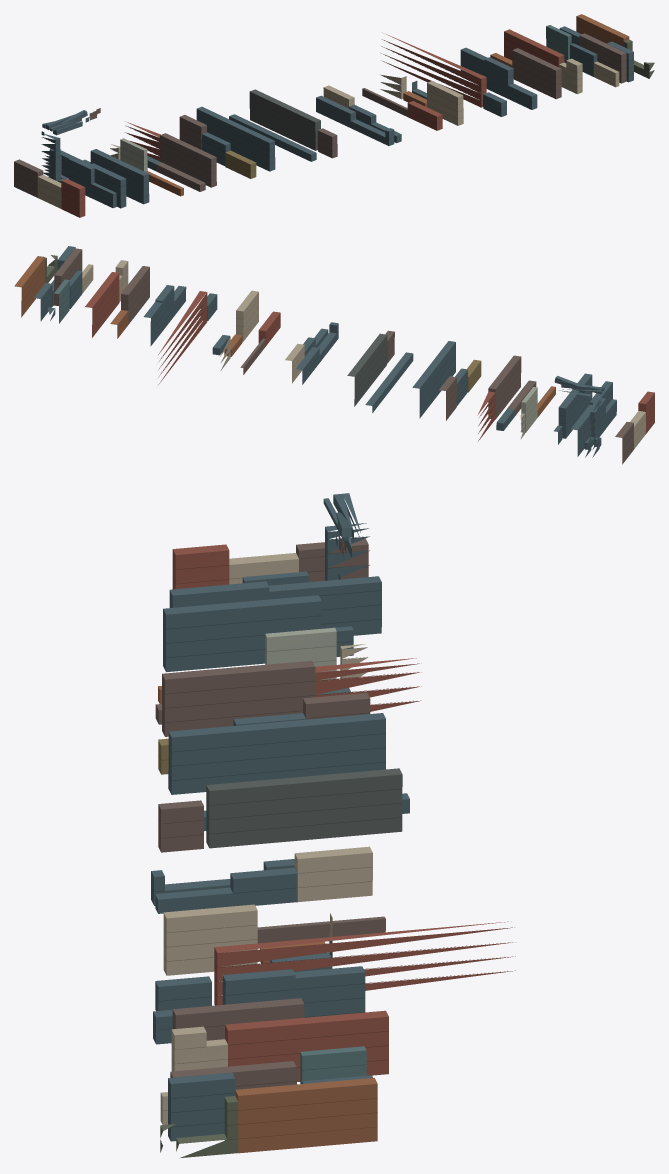
The model's file is terminal-28---124_-16.glb.
3 views of the same model, one above another, from view 1: azimuth 30°, elevation 25°; view 2: azimuth 150°, elevation 25°; view 3: azimuth 270°, elevation 25° (orthographic). The views are drawn at different scales.
Visible parts, largest first — view 1: measured-industrial; view 2: measured-industrial; view 3: measured-industrial.
Boxes of the visible parts, x1,y1,x2,y2 form: measured-industrial: [14, 14, 654, 217]; measured-industrial: [14, 246, 654, 464]; measured-industrial: [151, 493, 515, 1158].
Bounding box in the file's own units: 249 × 26.18 × 66.93.
